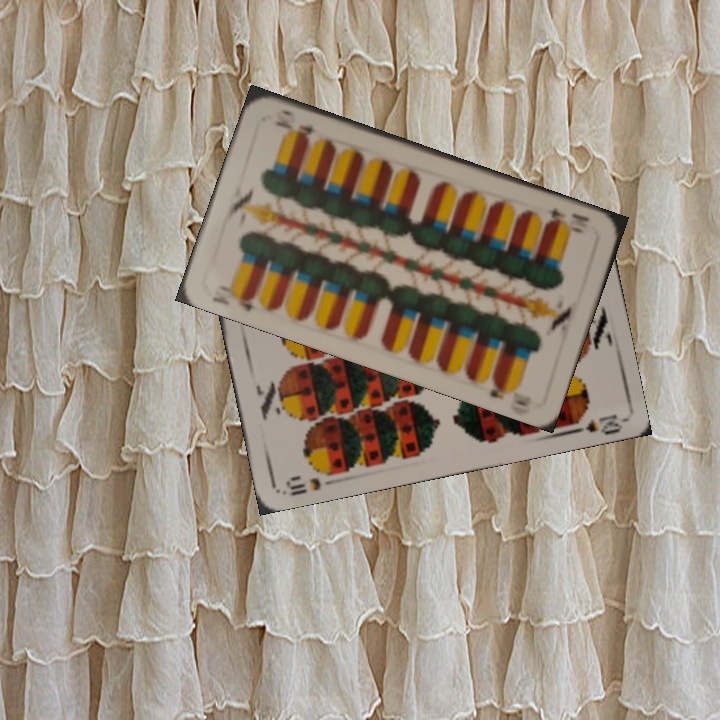E10: (208, 286, 258, 314), (541, 203, 593, 226)
S10: (281, 471, 323, 498)
